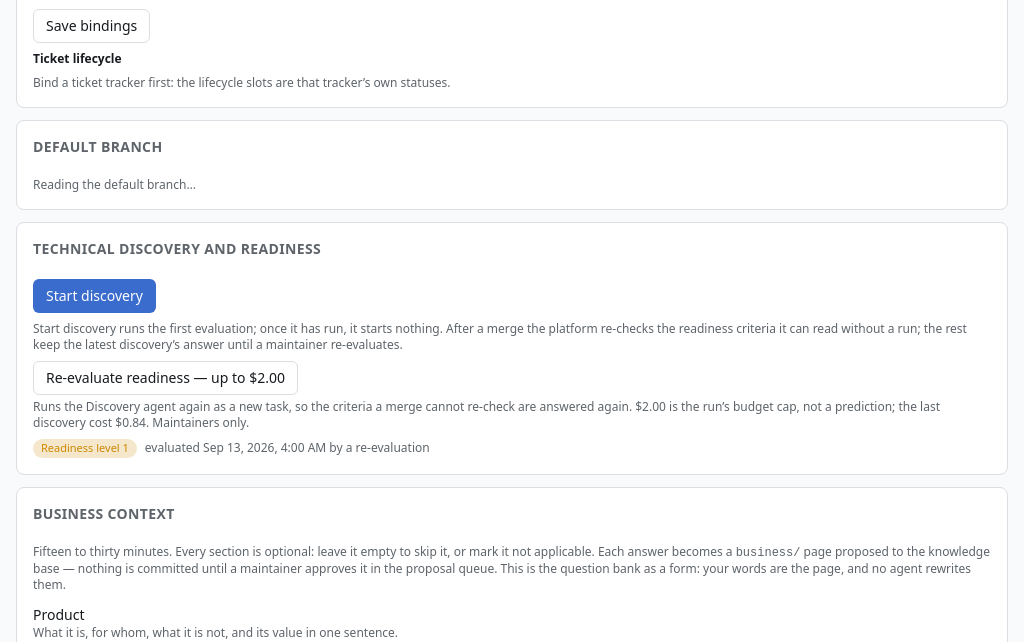
Test case: the re-evaluate control › shows the server’s refusal when the caller’s role may not run it (403)
(page scrolled)
Click the button "Re-evaluate readiness — up to $2.00": (166, 378) [33,361,298,395]
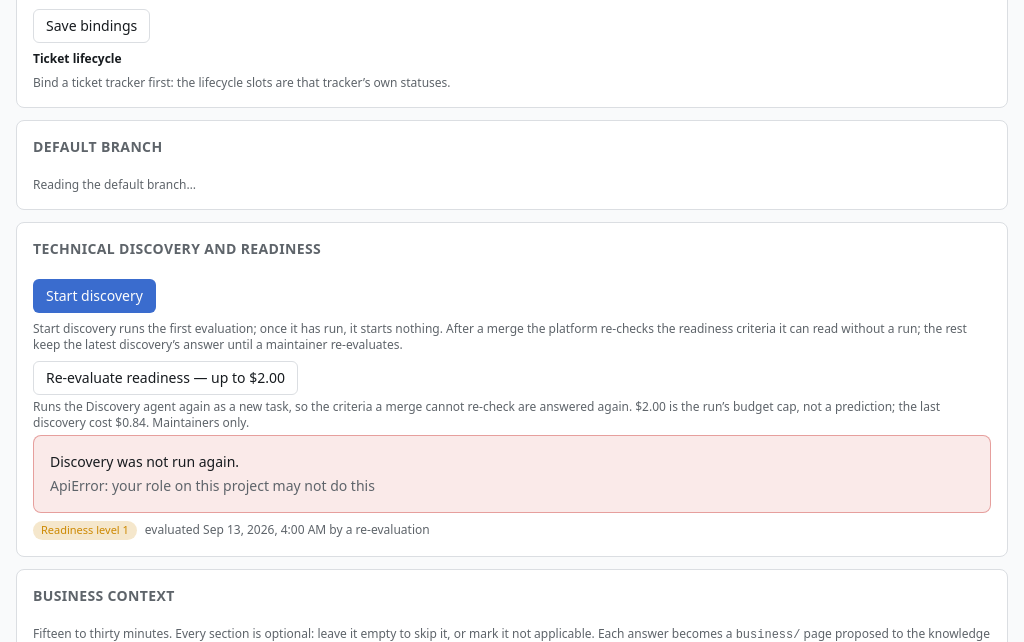
Expected: the text "Discovery was not run again." is shown, [50,452,239,471]
Expected: the text "ApiError: your role on this project may not do this" is shown, [50,476,375,495]
